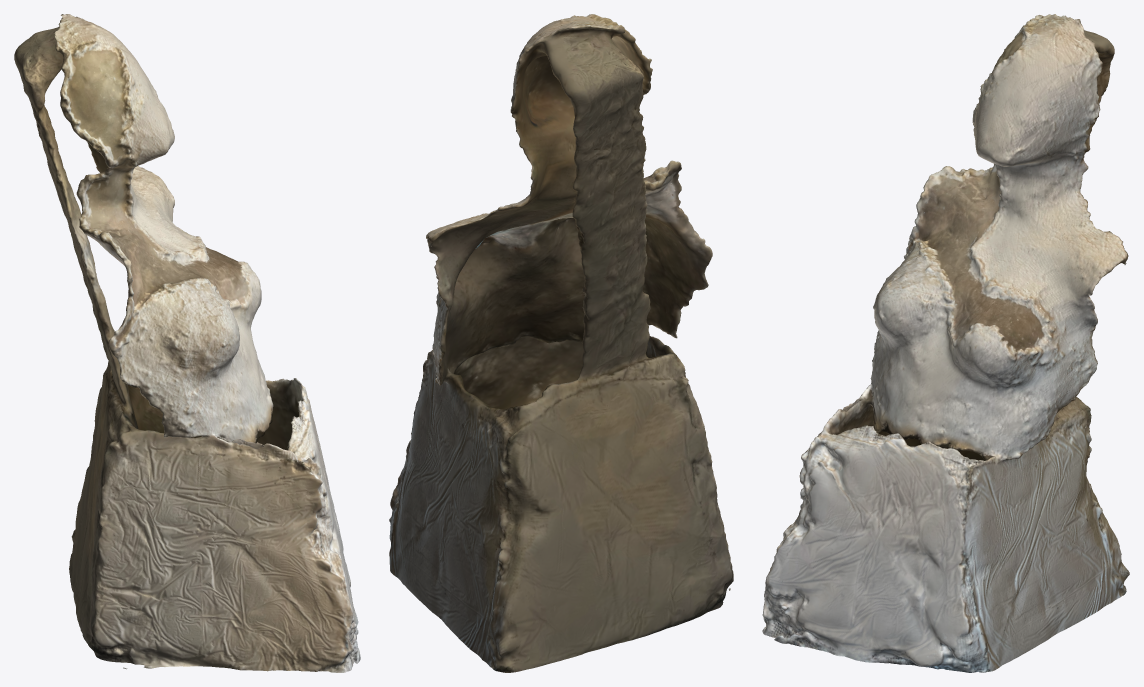
Rendered from FA-004-work.glb.
The picture shows the model from 3 angles, left to right: view 1: azimuth 30°, elevation 25°; view 2: azimuth 150°, elevation 25°; view 3: azimuth 270°, elevation 25°; orthographic projection. The views are drawn at different scales.
Parts seen in each view (by area): view 1: 3DModel; view 2: 3DModel; view 3: 3DModel.
Boxes of the visible parts, x1,y1,x2,y2 form: 3DModel: [14, 14, 360, 672]; 3DModel: [389, 14, 733, 672]; 3DModel: [762, 14, 1129, 672].
Bounding box in the file's own units: 0.4991 × 0.9799 × 0.5886.
Materials: 1 (1 with a texture image).
